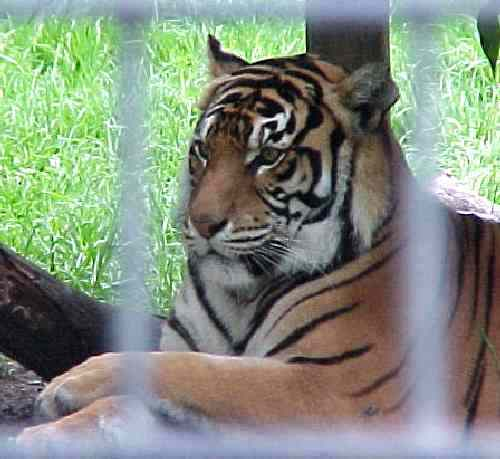Tigre: (154, 57, 477, 395)
